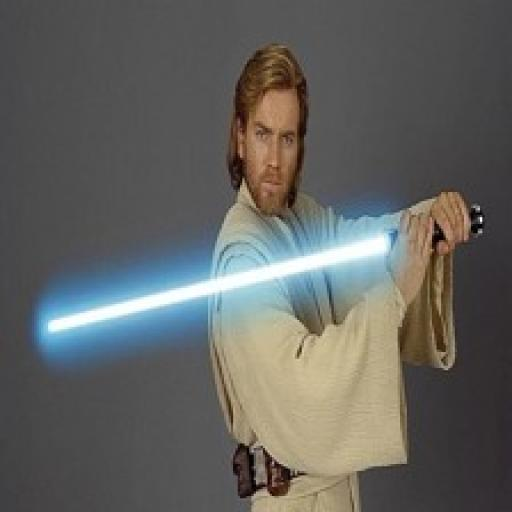human: (208, 45, 468, 512)
lightsaber: (38, 201, 487, 354)
